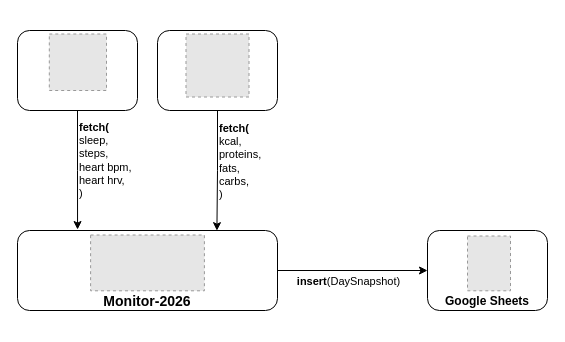
Image size: 565x342. Some labels were removed from this diagram. Grey dashed boxes stand in for pictures. Each missing label, with the box of its shape:
Dietonez API: (156, 30, 278, 110)
FITBIT WEB API: (16, 30, 138, 110)
